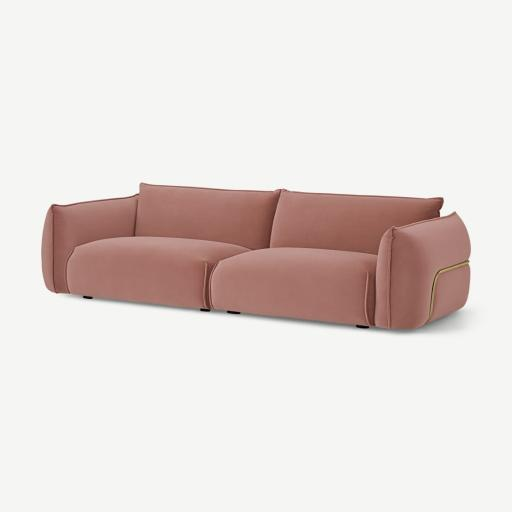back_cushion: (136, 184, 442, 254)
left_arm: (375, 213, 470, 329)
right_arm: (42, 194, 137, 293)
seat_cushion: (67, 237, 375, 322)
two-seater: (0, 0, 511, 512)
